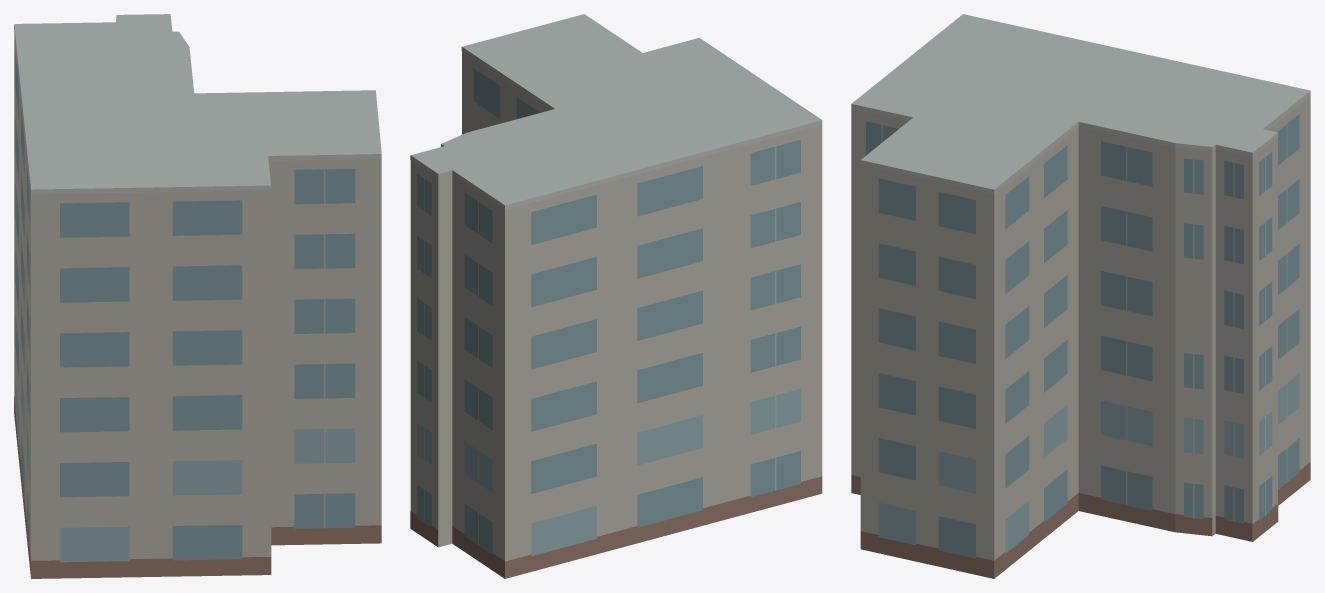
The model's file is survey-upis-32991631.glb.
3 renders of one model, left to right at view 1: azimuth 30°, elevation 25°; view 2: azimuth 150°, elevation 25°; view 3: azimuth 270°, elevation 25°, orthographic. The views are drawn at different scales.
Visible parts, largest first — view 1: survey-upis-32991631.tmp; view 2: survey-upis-32991631.tmp; view 3: survey-upis-32991631.tmp.
Boxes of the visible parts, x1,y1,x2,y2 form: survey-upis-32991631.tmp: (14,14,381,578); survey-upis-32991631.tmp: (410,14,822,578); survey-upis-32991631.tmp: (851,14,1310,578).
Bounding box in the file's own units: 19.04 × 19.65 × 21.03.
